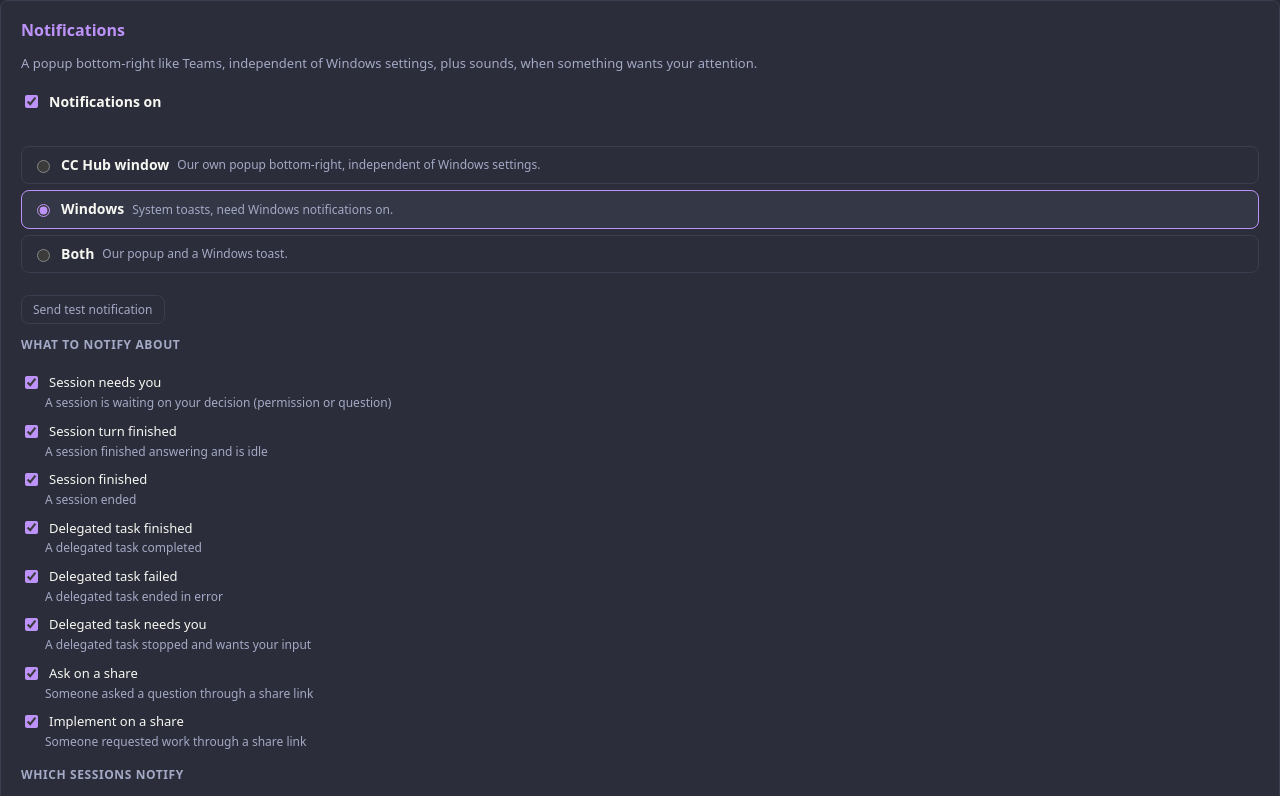
Test case: a test that no channel accepted reports the failure
The image size is (1280, 796).
Click the button "Send test notification": (93, 309) [21,295,164,324]
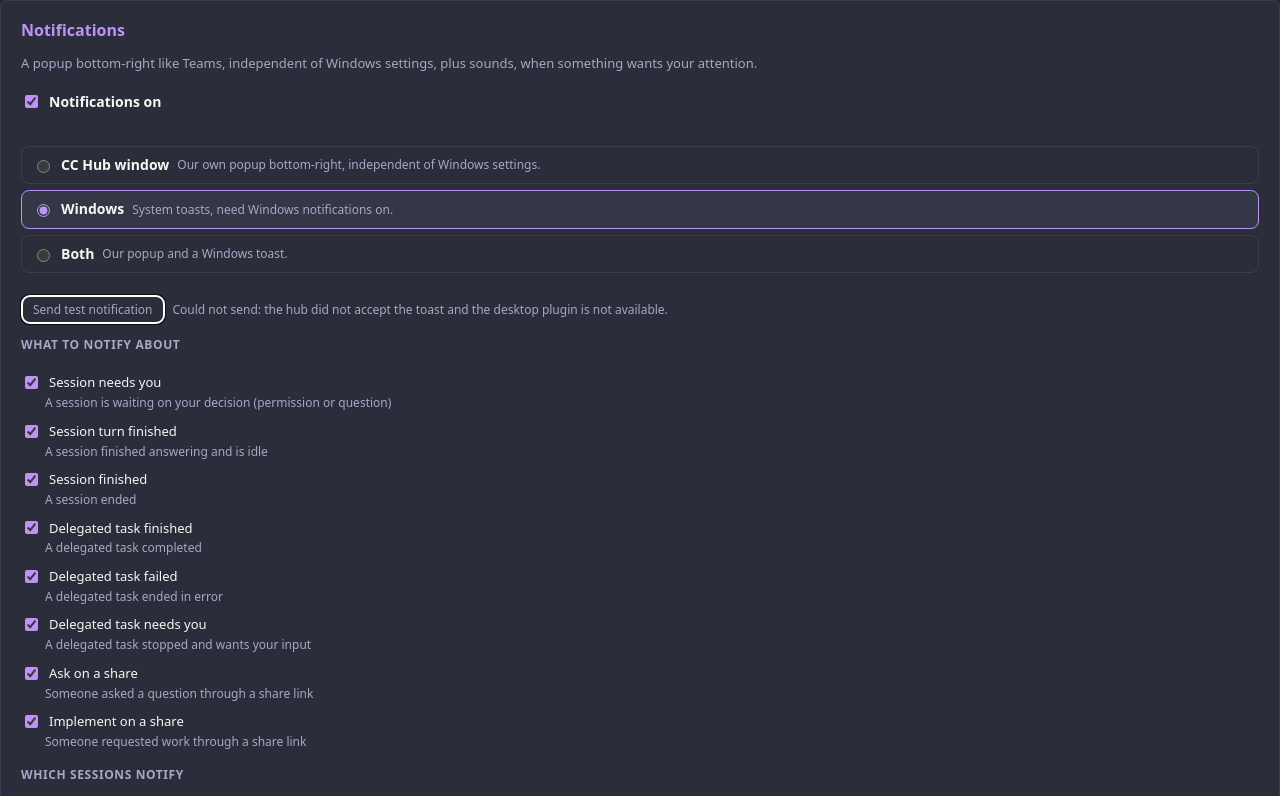
expect the text "Could not send: the hub did not accept the toast and the desktop plugin is not available." is shown: met, box [172,301,668,318]
